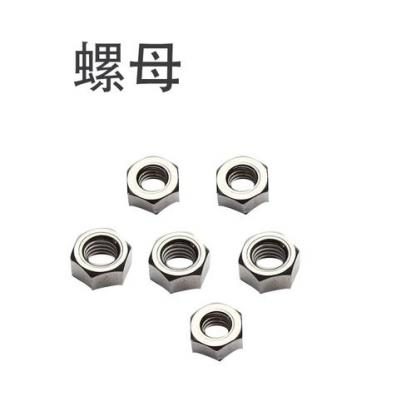FOD: (234, 228, 304, 293), (68, 229, 135, 295), (146, 231, 212, 295), (188, 300, 244, 364), (214, 154, 273, 214), (126, 154, 181, 215)
